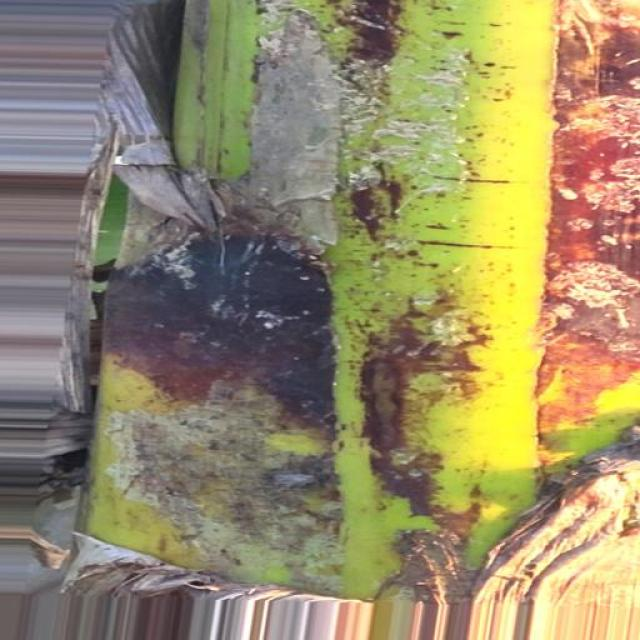Anthracnose: (92, 1, 640, 592)
